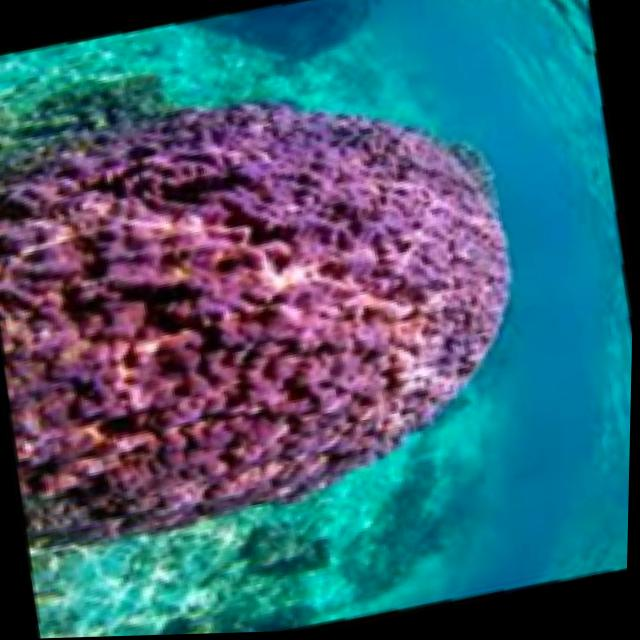Healthy Coral: (0, 29, 559, 574)
